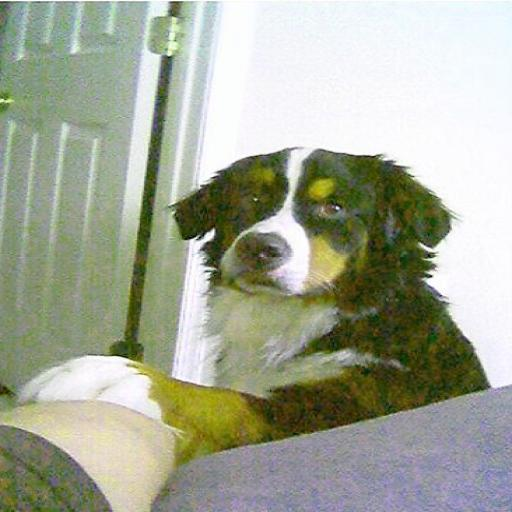dog_face: (174, 144, 446, 301)
